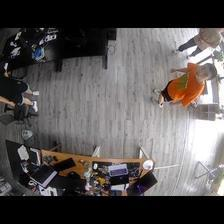normal: (156, 64, 216, 107), (1, 70, 40, 111)
